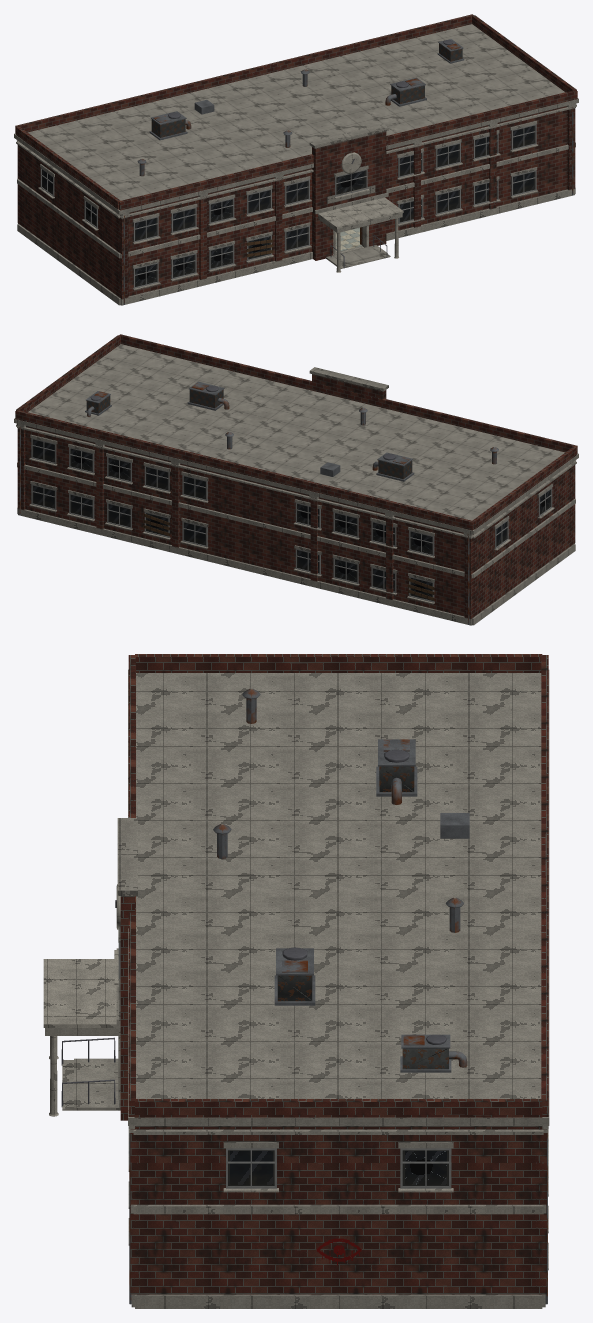
File: school.glb
3 views of the same model, one above another, from view 1: azimuth 30°, elevation 25°; view 2: azimuth 150°, elevation 25°; view 3: azimuth 270°, elevation 25° (orthographic). The views are drawn at different scales.
Visible parts, largest first — view 1: shell-col, detail; view 2: shell-col, detail; view 3: shell-col, detail.
Part boxes in pixels (<box>): shell-col: <box>14,14,578,297</box>; detail: <box>16,39,576,305</box>; shell-col: <box>14,334,578,617</box>; detail: <box>16,367,576,625</box>; shell-col: <box>45,654,549,1294</box>; detail: <box>43,689,548,1308</box>.
Size of what is drawn, in the model's own units: 36.5 by 9.1 by 17.4.
42 materials, 42 textured.
